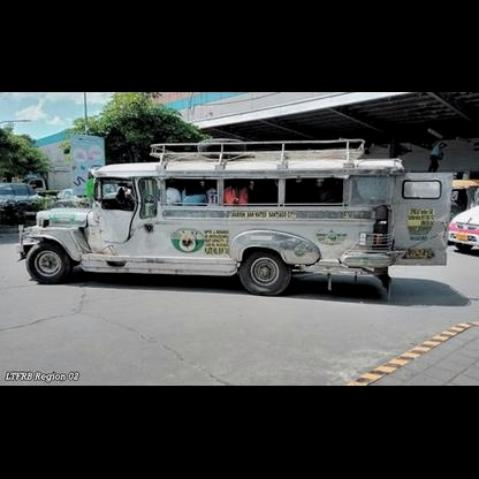jeepney: (23, 125, 428, 319)
